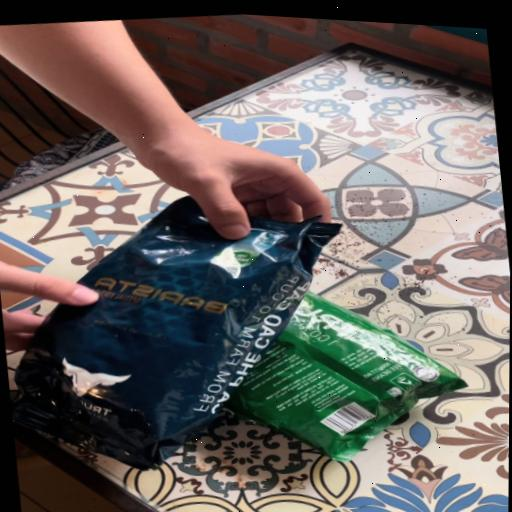cafe_hat: (11, 196, 341, 469)
cafe_xay: (227, 293, 464, 461)
